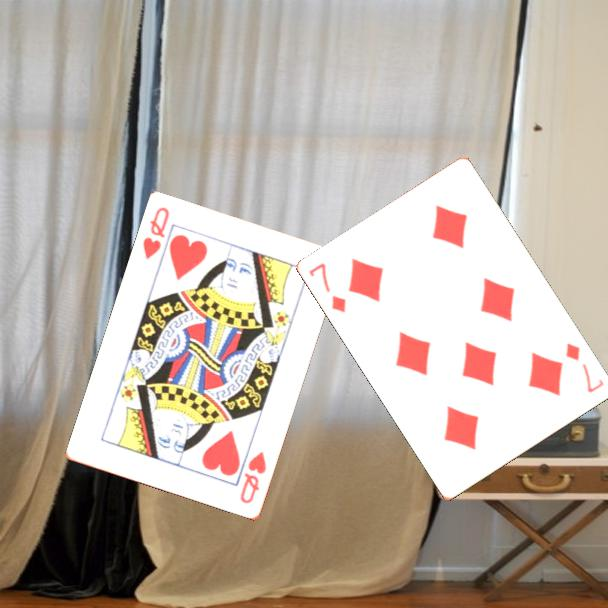d07: (562, 339, 607, 396), (306, 259, 349, 316)
h12: (139, 204, 172, 263), (237, 448, 269, 507)
